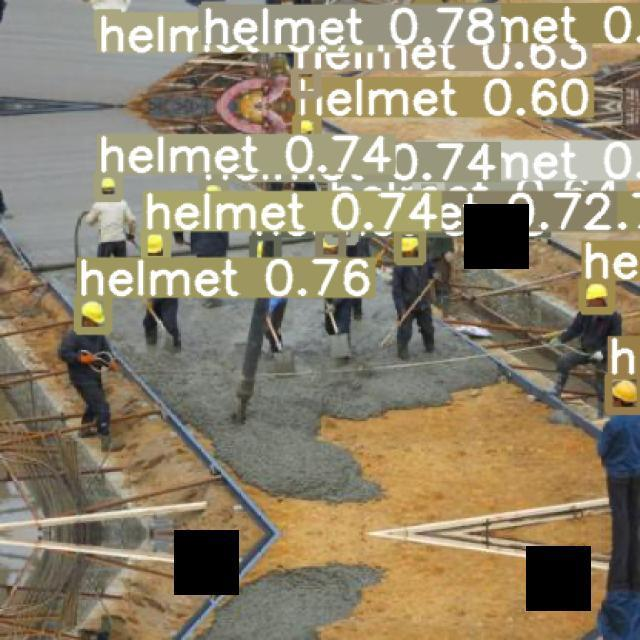yellow helmet: (610, 372, 640, 414), (77, 296, 112, 331), (581, 281, 611, 312), (144, 233, 171, 263), (399, 233, 431, 257), (96, 175, 123, 200), (292, 121, 323, 141), (199, 186, 227, 208)
